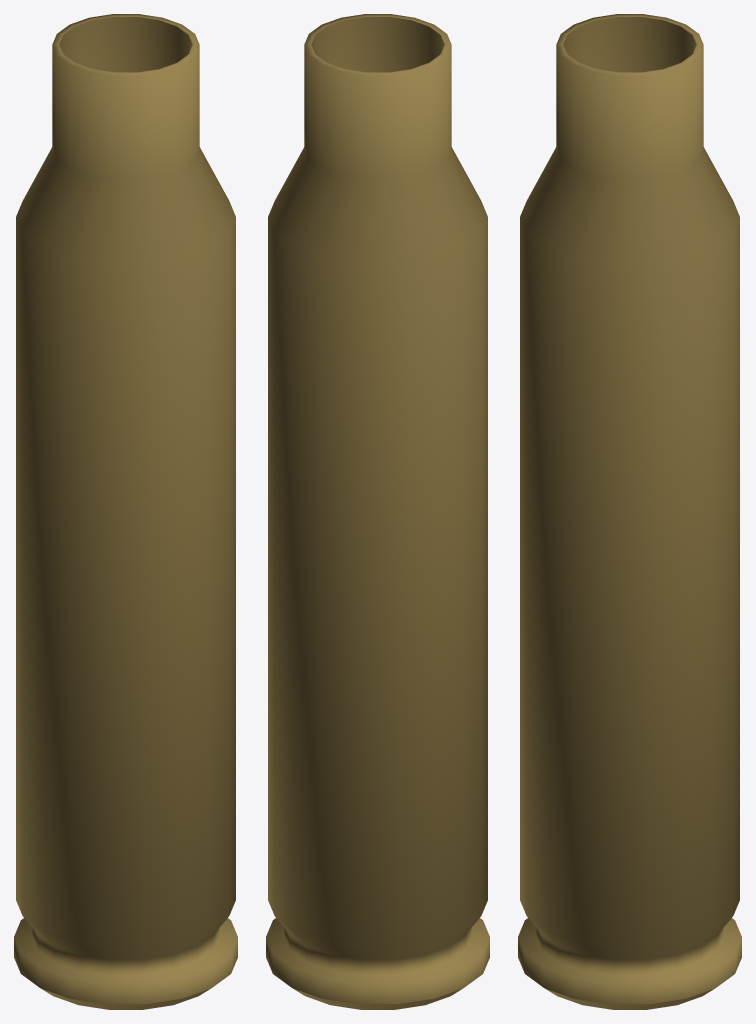
3 views of the same model, side by side, from view 1: azimuth 30°, elevation 25°; view 2: azimuth 150°, elevation 25°; view 3: azimuth 270°, elevation 25° (orthographic).
Visible parts, largest first — view 1: Cylinder001; view 2: Cylinder001; view 3: Cylinder001.
Part boxes in pixels (x1=…): Cylinder001: x1=14, y1=14, x2=237, y2=1009; Cylinder001: x1=266, y1=14, x2=489, y2=1009; Cylinder001: x1=518, y1=14, x2=741, y2=1009.
Bounding box in the file's own units: 0.9617 × 4.46 × 0.9766.
